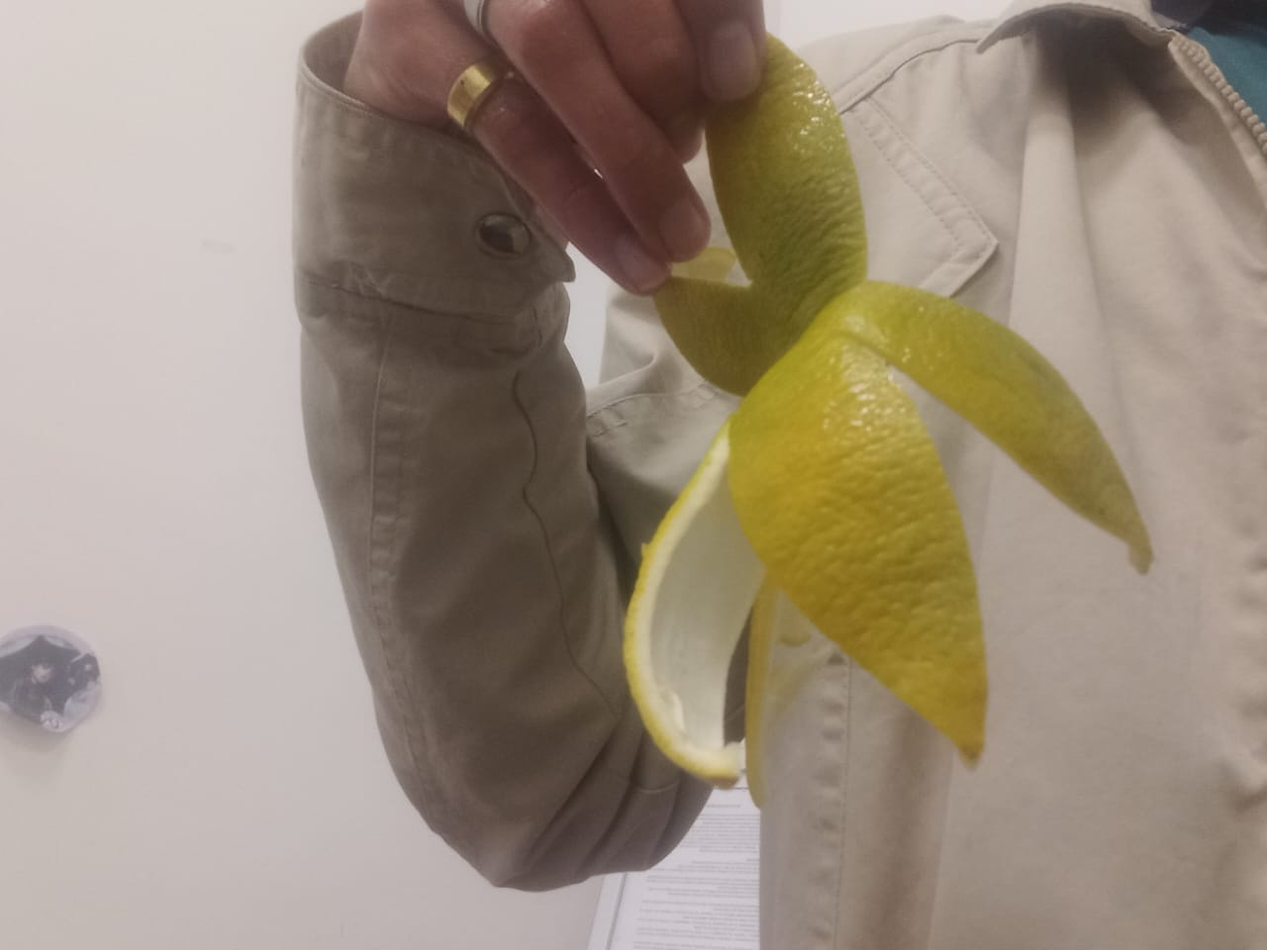Organico: (620, 29, 1152, 804)
